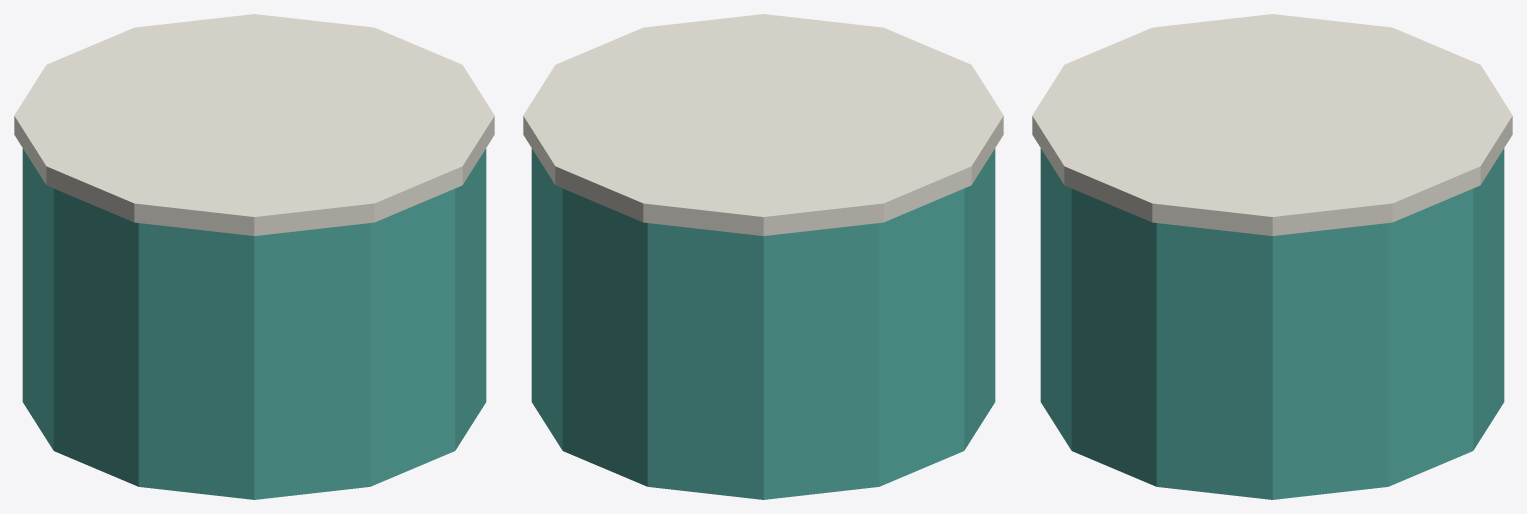
File: supermarket-operations-wide-food-tin-a21047cd__26844.glb
The picture shows the model from 3 angles, left to right: view 1: azimuth 30°, elevation 25°; view 2: azimuth 150°, elevation 25°; view 3: azimuth 270°, elevation 25°; orthographic projection.
Parts seen in each view (by area): view 1: wide-food-tin; view 2: wide-food-tin; view 3: wide-food-tin.
Part boxes in pixels (x1,y1,x2,y2): wide-food-tin: (14, 14, 494, 499); wide-food-tin: (523, 14, 1003, 499); wide-food-tin: (1032, 14, 1512, 499).
Bounding box in the file's own units: 0.114 × 0.075 × 0.114.
